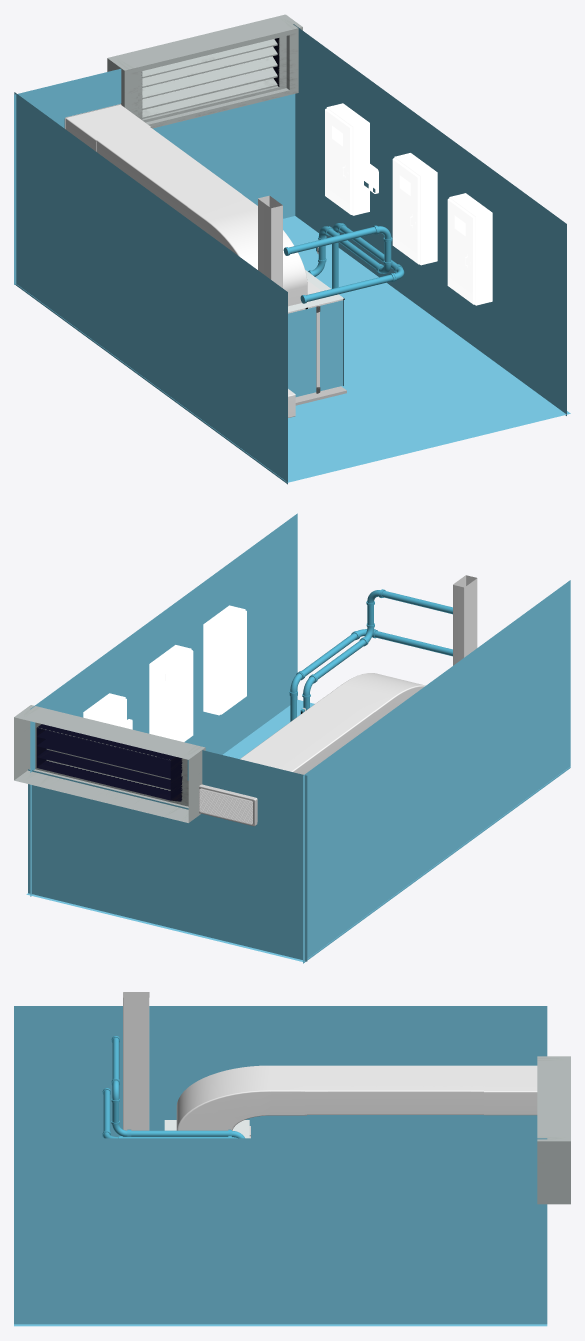
The model's file is ahu_2a.glb.
3 views of the same model, one above another, from view 1: azimuth 30°, elevation 25°; view 2: azimuth 150°, elevation 25°; view 3: azimuth 270°, elevation 25° (orthographic). The views are drawn at different scales.
Visible parts, largest first — view 1: Plane__5_, Plane__4_, Plane__3__1, vent_large, Plane_1, Sketchfab_model_air_duct_I__3_, model_0__1_, model_0__2_, Plane__3_, Sketchfab_model_air_duct_vertical_90, model_0_1, Plane__1__1 (+4 smaller); view 2: Plane__5_, Plane_1, Plane__4_, vent_large, Sketchfab_model_air_duct_I__3_, model_0__1_, model_0__2_, Plane__1__1, Sketchfab_model_air_duct_vertical_90, Plane__3__1, Sketchfab_model_air_duct_I__5_, Sketchfab_model_air_duct_side_cap (+3 smaller); view 3: Plane__4_, Plane__5_, Sketchfab_model_air_duct_I__3_, Sketchfab_model_air_duct_vertical_90, vent_large, Sketchfab_model_air_duct_I__1_, Sketchfab_model_air_duct_I__5_, Plane__3__1, Sketchfab_model_air_duct_I__4_, pipe_col_2__5_.
Boxes of the visible parts, <box> form: Plane__5_: <box>14,92,287,484</box>; Plane__4_: <box>293,24,566,415</box>; Plane__3__1: <box>16,216,570,482</box>; vent_large: <box>107,14,302,128</box>; Plane_1: <box>14,94,295,284</box>; Sketchfab_model_air_duct_I__3_: <box>96,127,241,217</box>; model_0__1_: <box>447,193,492,305</box>; model_0__2_: <box>392,153,437,265</box>; Plane__3_: <box>288,300,342,396</box>; Sketchfab_model_air_duct_vertical_90: <box>187,193,307,306</box>; model_0_1: <box>325,103,369,215</box>; Plane__1__1: <box>14,68,121,128</box>; Plane__5_: <box>303,580,570,963</box>; Plane_1: <box>28,769,307,961</box>; Plane__4_: <box>30,513,297,896</box>; vent_large: <box>14,705,205,822</box>; Sketchfab_model_air_duct_I__3_: <box>240,697,375,774</box>; model_0__1_: <box>203,605,246,715</box>; model_0__2_: <box>149,645,193,741</box>; Plane__1__1: <box>187,750,307,809</box>; Sketchfab_model_air_duct_vertical_90: <box>323,673,425,722</box>; Plane__3__1: <box>26,700,570,961</box>; Sketchfab_model_air_duct_I__5_: <box>453,575,477,663</box>; Sketchfab_model_air_duct_side_cap: <box>199,784,257,826</box>; Plane__4_: <box>14,1138,547,1324</box>; Plane__5_: <box>14,1006,547,1138</box>; Sketchfab_model_air_duct_I__3_: <box>304,1065,484,1114</box>; Sketchfab_model_air_duct_vertical_90: <box>176,1065,306,1130</box>; vent_large: <box>537,1056,570,1204</box>; Sketchfab_model_air_duct_I__1_: <box>484,1065,537,1115</box>; Sketchfab_model_air_duct_I__5_: <box>123,992,149,1079</box>; Plane__3__1: <box>14,1324,547,1326</box>; Sketchfab_model_air_duct_I__4_: <box>123,1075,149,1130</box>; pipe_col_2__5_: <box>128,1129,230,1136</box>.
Size of the model in its own units: 11.24 by 8.48 by 19.46.
Materials: 19 (1 with a texture image).
